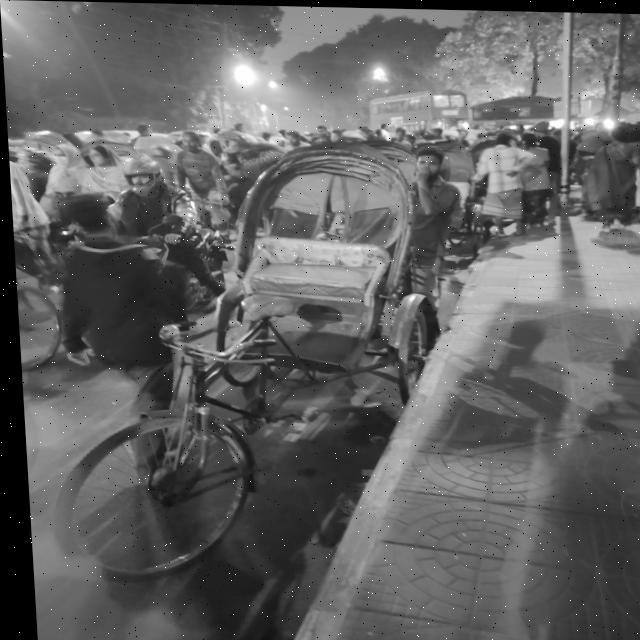rikshaw: (21, 136, 457, 595)
